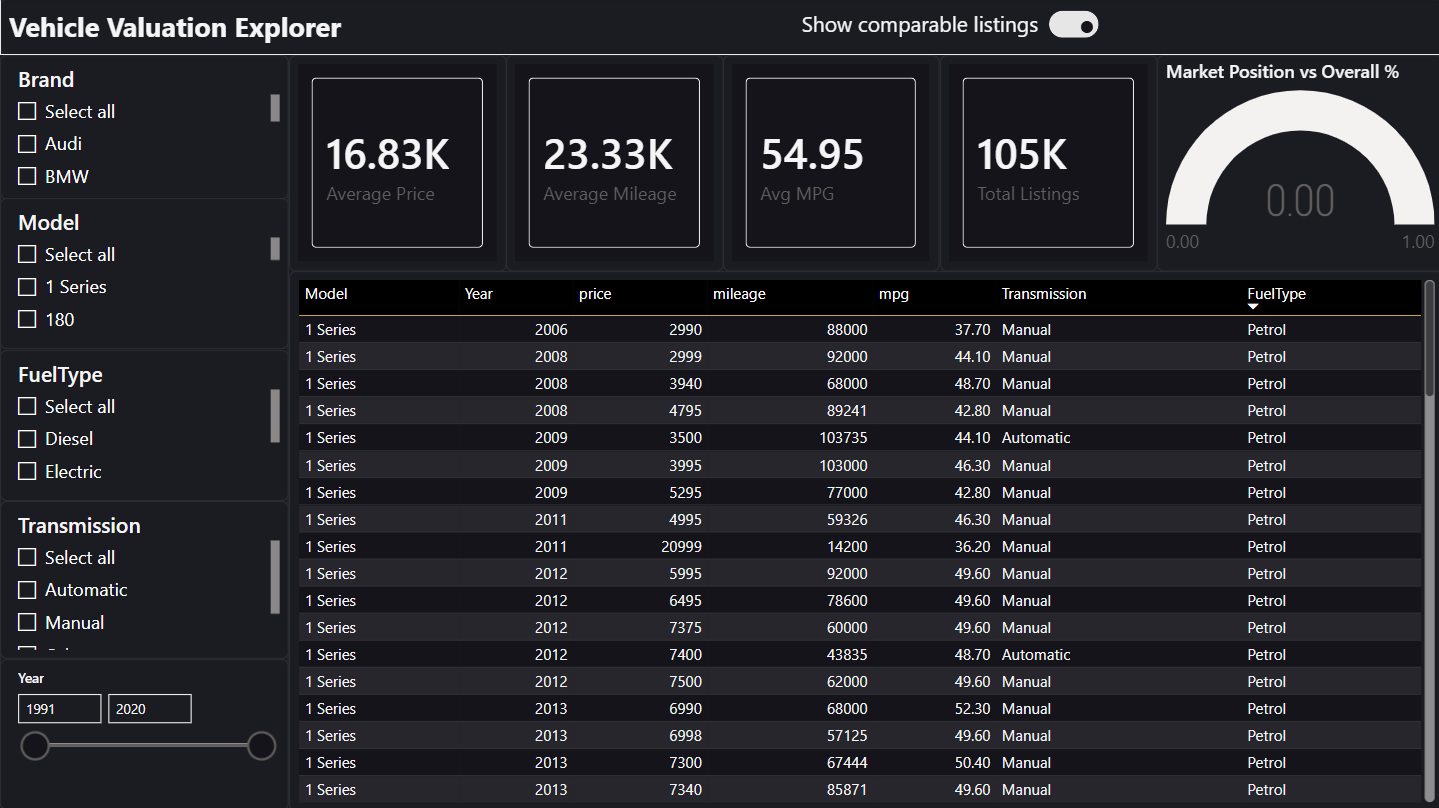

What the dashboard file says about the page in this screenshot:
{"tool":"powerbi","page":{"name":"Page 4","canvas":[1280,720],"ordinal":3},"visuals":[{"type":"textbox","box":[0,0,1280,49.6],"z":0},{"type":"shape","box":[0,49.7,256.3,670.3],"z":1000},{"type":"slicer","fields":{"Values":["Fact_Cars.Brand"]},"box":[0,49.7,256.3,127.7],"z":2000},{"type":"slicer","fields":{"Values":["Fact_Cars.model"]},"box":[0,176.7,256.4,134],"z":3000},{"type":"slicer","fields":{"Values":["Fact_Cars.fuelType"]},"box":[0,310.9,256.4,134.3],"z":4000},{"type":"slicer","fields":{"Values":["Fact_Cars.transmission"]},"box":[0,445.2,256.4,140.3],"z":5000},{"type":"slicer","fields":{"Values":["Fact_Cars.year"]},"box":[0,585.5,256.4,134.3],"z":6000},{"type":"cardVisual","fields":{"Data":["Measure_s.Average Price"]},"box":[256.2,49.7,192.6,191.7],"z":7000},{"type":"gauge","fields":{"Y":["Measure_s.Market Position vs Overall %"]},"box":[1025.8,49.7,254.2,191.7],"z":8000},{"type":"cardVisual","fields":{"Data":["Measure_s.Average Mileage"]},"box":[448.8,49.7,192.6,191.7],"z":9000},{"type":"cardVisual","fields":{"Data":["Measure_s.Avg MPG"]},"box":[641.5,49.7,191.7,191.7],"z":10000},{"type":"cardVisual","fields":{"Data":["Measure_s.Total Listings"]},"box":[833.1,49.7,192.6,191.7],"z":11000},{"type":"tableEx","fields":{"Values":["Fact_Cars.Model","Fact_Cars.Year","Fact_Cars.price","Fact_Cars.mileage","Fact_Cars.mpg","Fact_Cars.Transmission","Fact_Cars.FuelType"]},"box":[256.2,241.3,1023.8,478.6],"z":12000},{"type":"bookmarkNavigator","box":[929.7,5,44.4,39.4],"z":13000},{"type":"textbox","box":[705.6,4,224.1,41.4],"z":14000}]}

Visuals, with their boxes in screenshot pixels (x1, y1, x2, y2), scaled from the page's 1280x720 canvas onto the 1439x808 screenshot:
textbox: [0, 0, 1438, 56]
shape: [0, 56, 288, 807]
slicer - Fact_Cars.Brand: [0, 56, 288, 199]
slicer - Fact_Cars.model: [0, 198, 288, 349]
slicer - Fact_Cars.fuelType: [0, 349, 288, 500]
slicer - Fact_Cars.transmission: [0, 500, 288, 657]
slicer - Fact_Cars.year: [0, 657, 288, 807]
cardVisual - Measure_s.Average Price: [288, 56, 505, 271]
gauge - Measure_s.Market Position vs Overall %: [1153, 56, 1438, 271]
cardVisual - Measure_s.Average Mileage: [505, 56, 721, 271]
cardVisual - Measure_s.Avg MPG: [721, 56, 937, 271]
cardVisual - Measure_s.Total Listings: [937, 56, 1153, 271]
tableEx - Fact_Cars.Model x Fact_Cars.Year: [288, 271, 1438, 807]
bookmarkNavigator: [1045, 6, 1095, 50]
textbox: [793, 4, 1045, 51]
